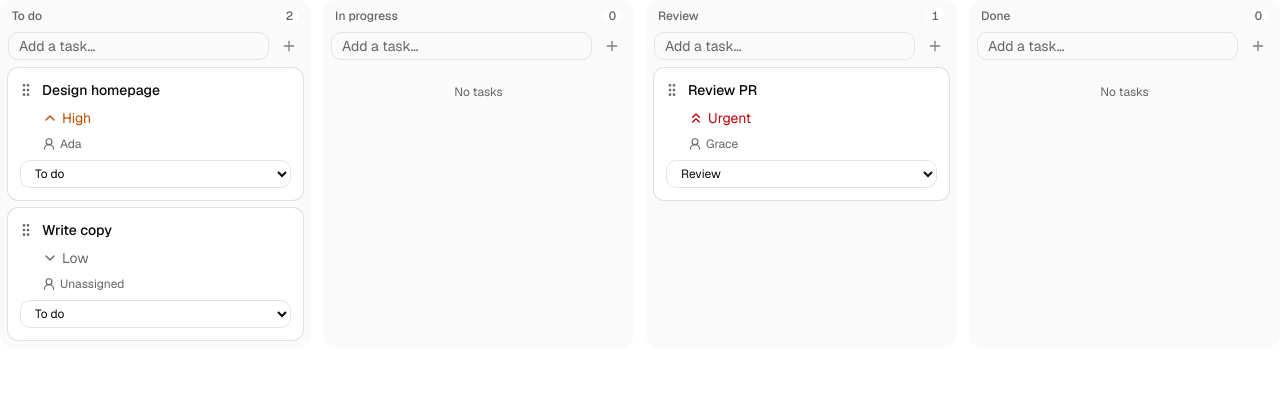
Test: KanbanBoard › keeps the typed title and shows the error when creating fails
Type "Blocked" into the field named "New task in To do" at (138, 46), box [8,32,269,60]
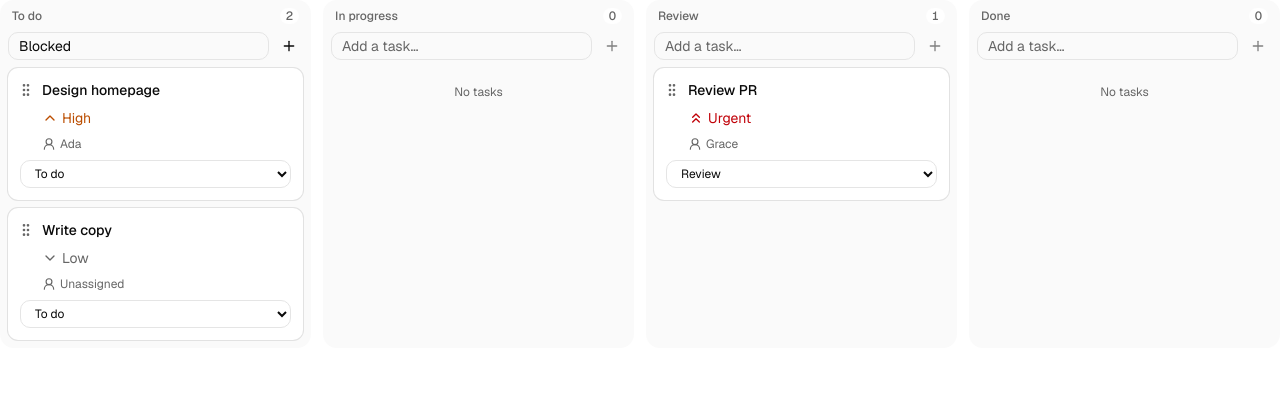
Submit the form named "New task in To do" below "To do", box [8,32,303,60]
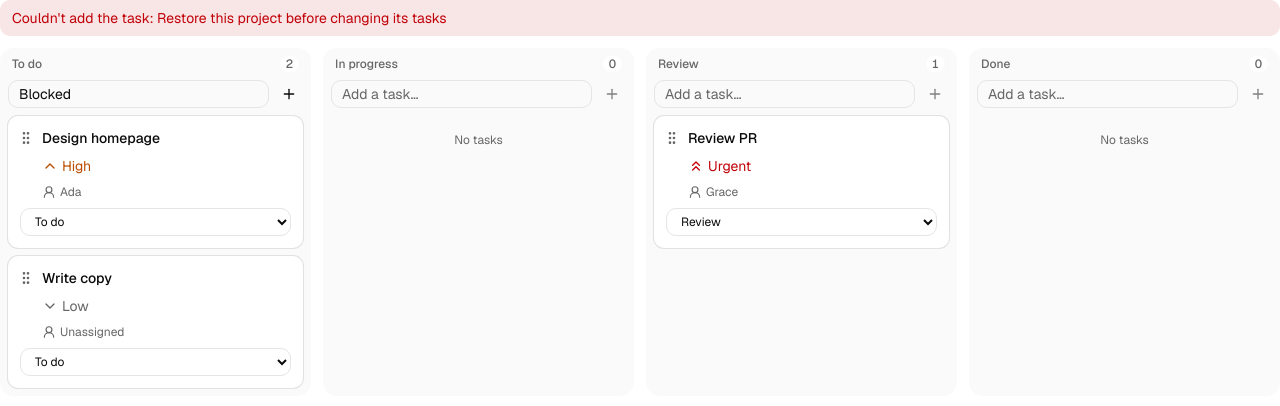
Result: the message shows "Restore this project before changing its tasks" at [12,9,447,27]
